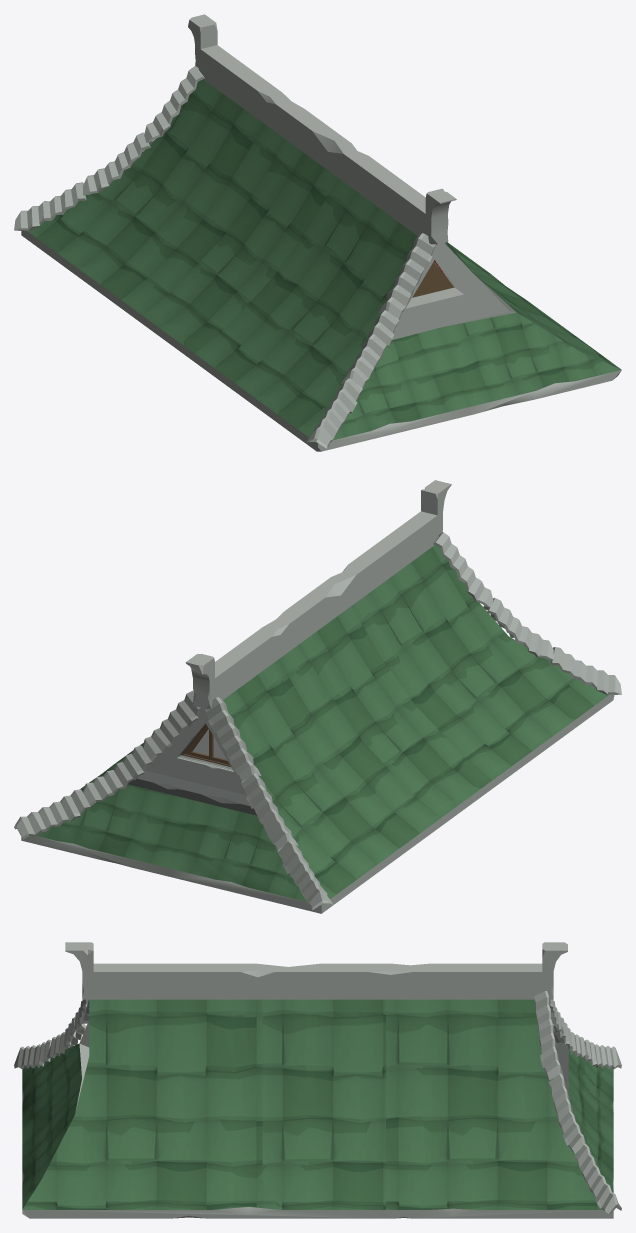
File: SM_Env_Roof_02.fbx
The picture shows the model from 3 angles, top to bottom: view 1: azimuth 30°, elevation 25°; view 2: azimuth 150°, elevation 25°; view 3: azimuth 270°, elevation 25°; orthographic projection.
Visible parts, largest first — view 1: SM_Env_Roof_02; view 2: SM_Env_Roof_02; view 3: SM_Env_Roof_02.
Part boxes in pixels (x1,y1,x2,y2): SM_Env_Roof_02: (14,14,621,451); SM_Env_Roof_02: (14,480,621,913); SM_Env_Roof_02: (14,942,621,1218).
Bounding box in the file's own units: 193 × 113 × 315.
Materials: 1 (1 with a texture image).
